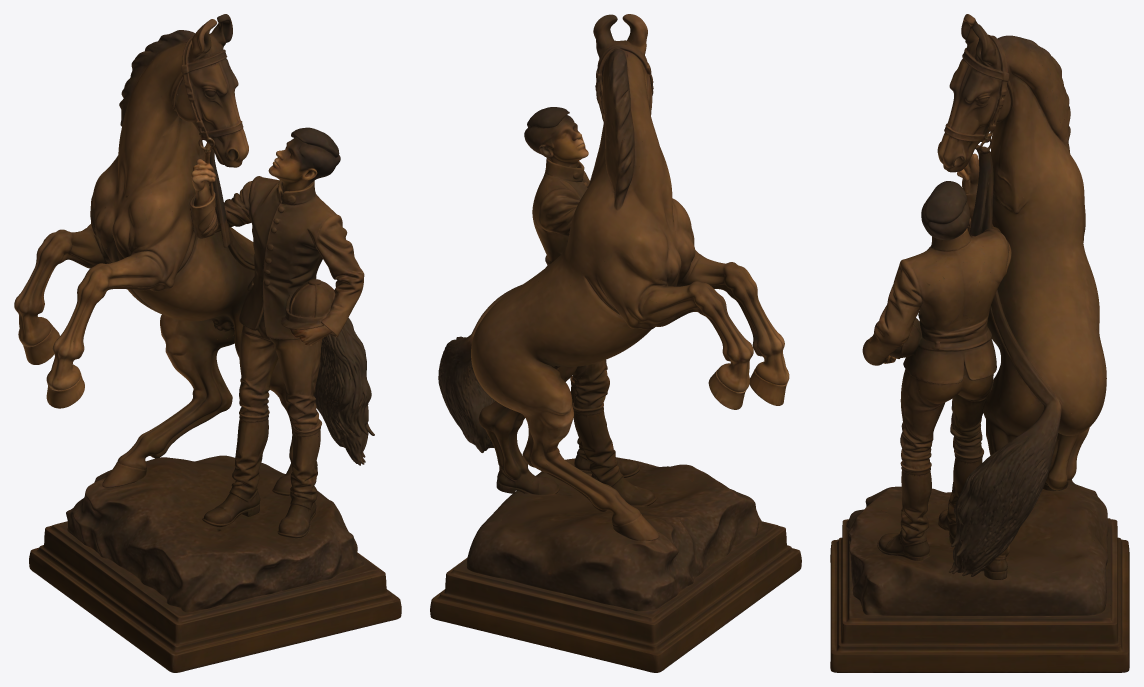
The model's file is statue-cadet-marwari.glb.
The picture shows the model from 3 angles, left to right: view 1: azimuth 30°, elevation 25°; view 2: azimuth 150°, elevation 25°; view 3: azimuth 270°, elevation 25°; orthographic projection. The views are drawn at different scales.
Visible parts, largest first — view 1: Statue; view 2: Statue; view 3: Statue.
Part boxes in pixels (x1,y1,x2,y2): Statue: (14, 14, 401, 672); Statue: (430, 14, 801, 672); Statue: (830, 14, 1129, 672).
Bounding box in the file's own units: 0.5995 × 1.02 × 0.4649.
1 material, 1 textured.
